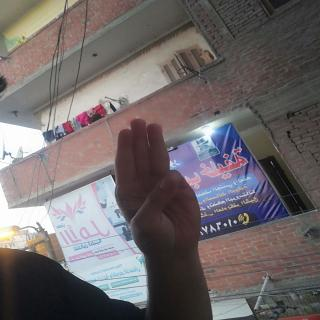THA: (103, 113, 221, 259)
